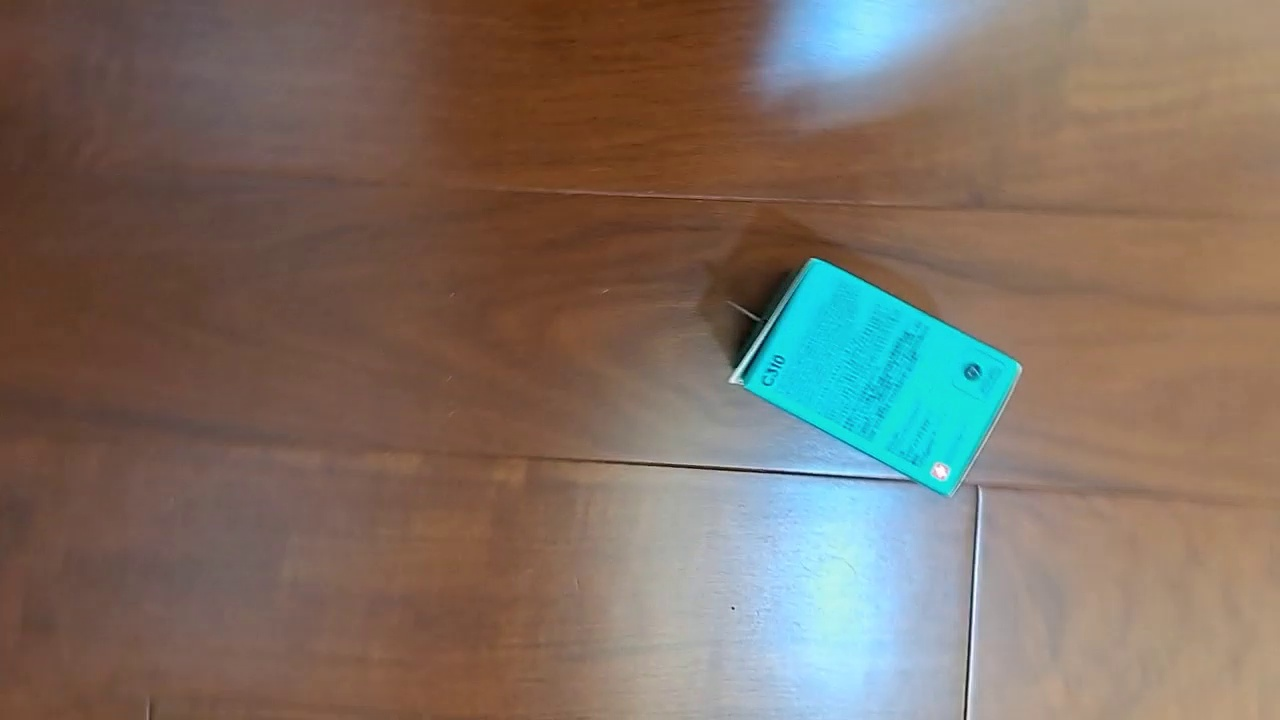webcam: (727, 257, 1023, 499)
